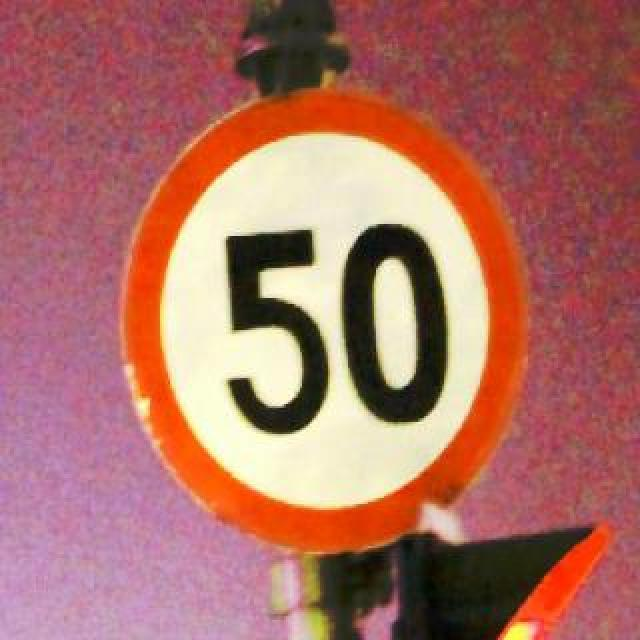50 kph: (118, 86, 526, 552)
